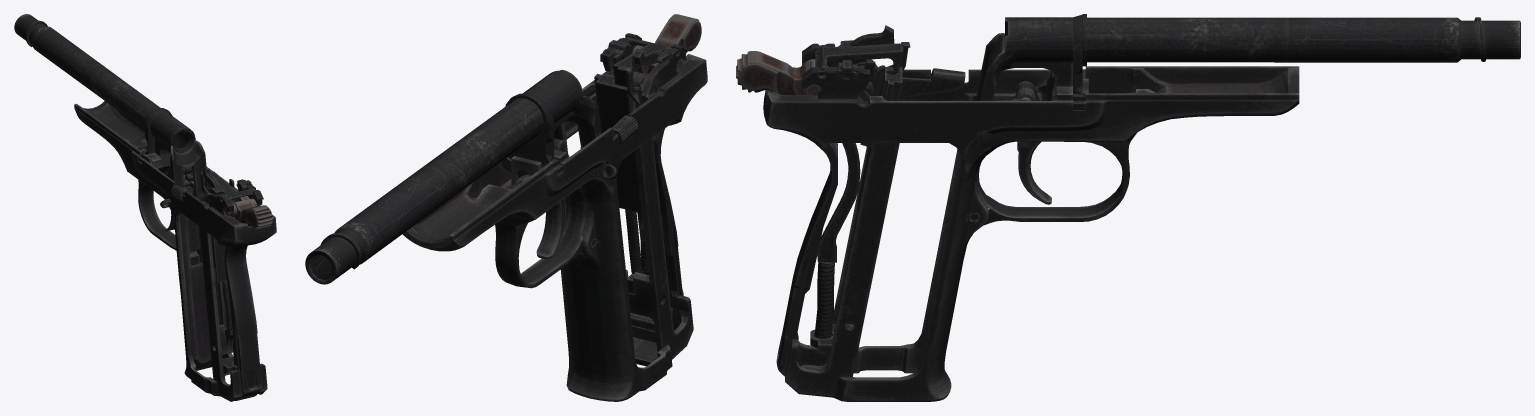
The picture shows the model from 3 angles, left to right: view 1: azimuth 30°, elevation 25°; view 2: azimuth 150°, elevation 25°; view 3: azimuth 270°, elevation 25°; orthographic projection. The views are drawn at different scales.
Visible parts, largest first — view 1: TW_5abccb7dd8ce87001773e277_PZ_Import; view 2: TW_5abccb7dd8ce87001773e277_PZ_Import; view 3: TW_5abccb7dd8ce87001773e277_PZ_Import.
Part boxes in pixels (left/top/right/bottom): TW_5abccb7dd8ce87001773e277_PZ_Import: left=14, top=14, right=276, bottom=401; TW_5abccb7dd8ce87001773e277_PZ_Import: left=305, top=14, right=707, bottom=401; TW_5abccb7dd8ce87001773e277_PZ_Import: left=736, top=14, right=1520, bottom=401.
Bounding box in the file's own units: 0.0182 × 0.1555 × 0.0814.
1 material, 1 textured.
